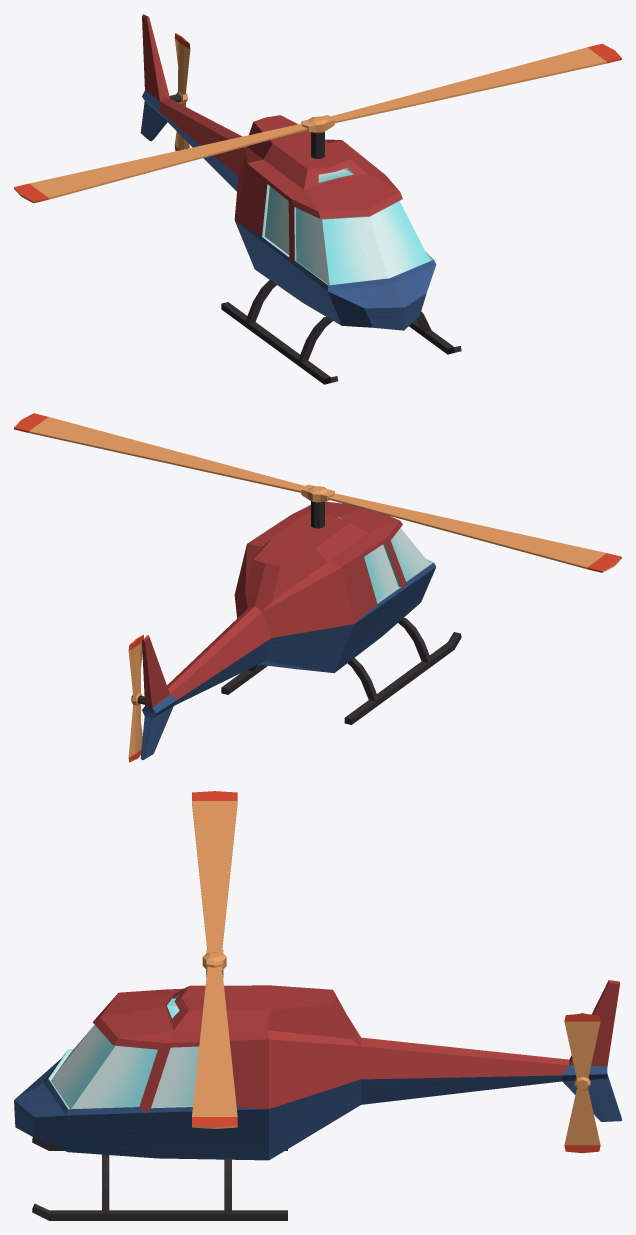
Rendered from helicopter.fbx.
3 views of the same model, one above another, from view 1: azimuth 30°, elevation 25°; view 2: azimuth 150°, elevation 25°; view 3: azimuth 270°, elevation 25° (orthographic). The views are drawn at different scales.
Parts seen in each view (by area): view 1: helicopter, blades, tail_rotor; view 2: helicopter, blades, tail_rotor; view 3: helicopter, blades, tail_rotor.
Boxes of the visible parts, x1,y1,x2,y2 form: helicopter: (140, 14, 461, 384); blades: (14, 43, 621, 203); tail_rotor: (169, 33, 190, 150); helicopter: (140, 501, 461, 760); blades: (14, 413, 621, 572); tail_rotor: (128, 635, 144, 762); helicopter: (14, 980, 621, 1220); blades: (192, 791, 237, 1128); tail_rotor: (564, 1013, 600, 1153).
Bounding box in the file's own units: 11.49 × 3.66 × 8.79.
1 material, 1 textured.
